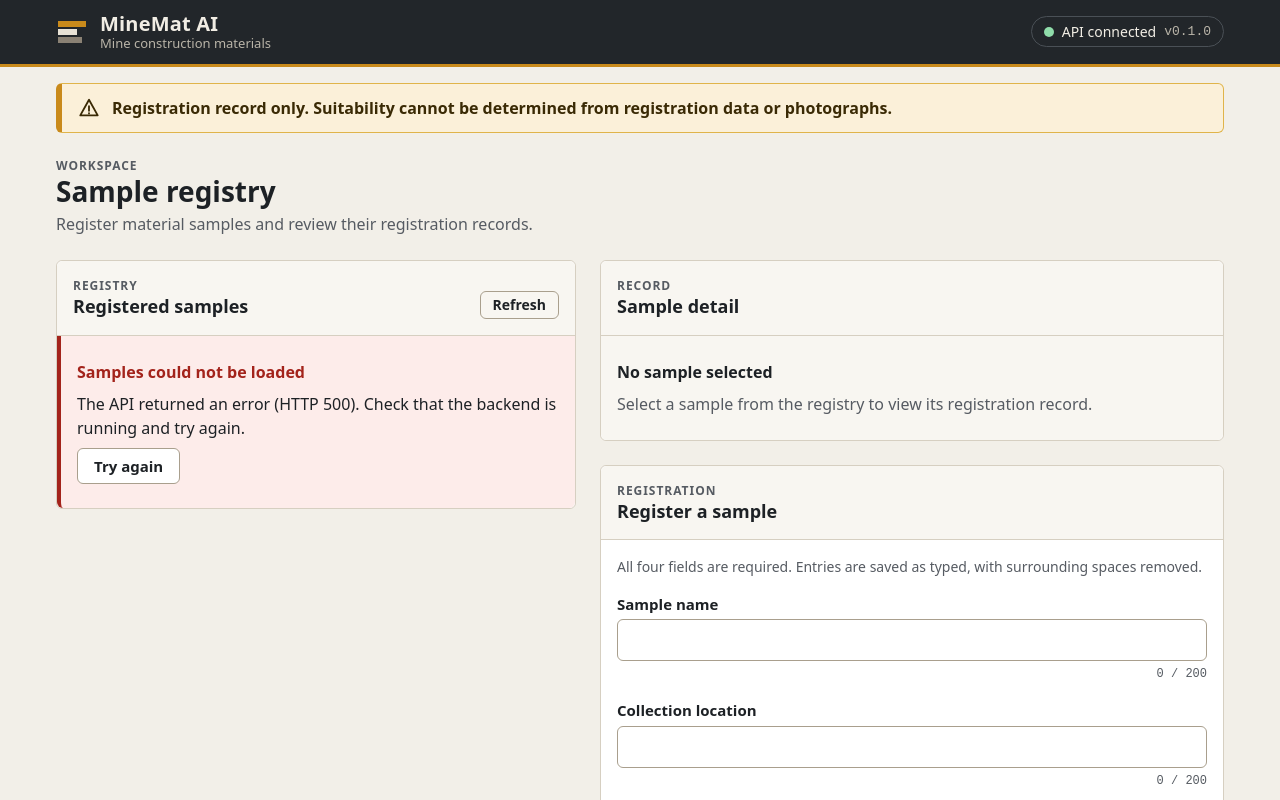
sample list › shows an error state with the HTTP status, and recovers on retry
Expected: the message that starts with "Samples could not be loaded" is shown, top-left (77, 361), bottom-right (305, 383)
Expected: the message that starts with "Samples could not be loaded" shows "HTTP 500", top-left (77, 393), bottom-right (556, 439)
Click the button "Try again" at (129, 466), box top-left (77, 448), bottom-right (180, 484)
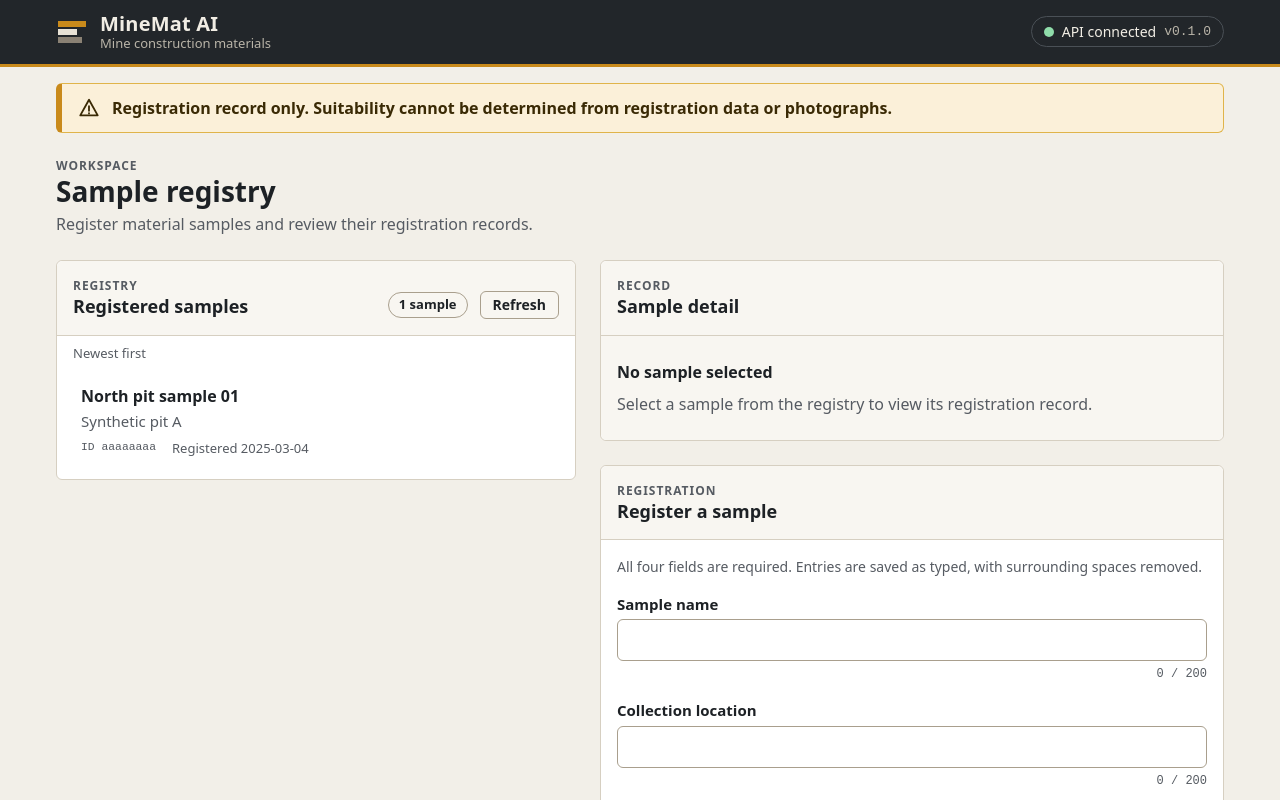
Expected: the text "North pit sample 01" is shown, top-left (81, 385), bottom-right (239, 407)
Expected: the text "Samples could not be loaded" is gone
